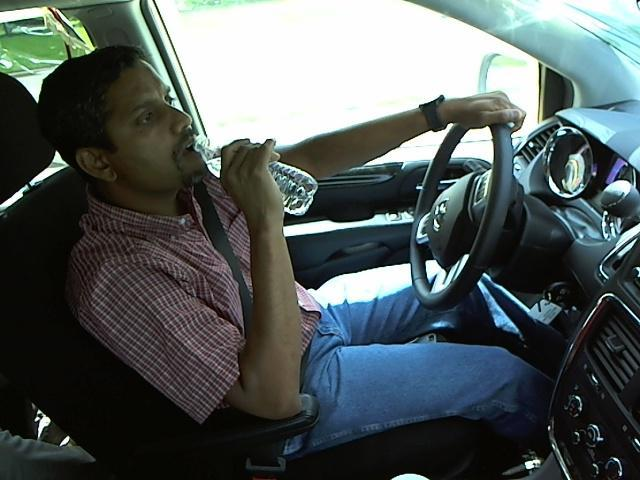Drinking: (76, 59, 316, 215)
